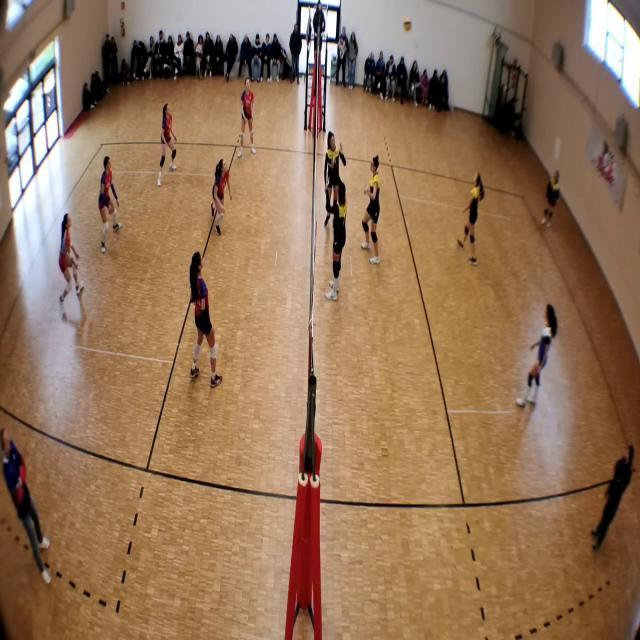volleyball: (402, 16, 412, 30)
